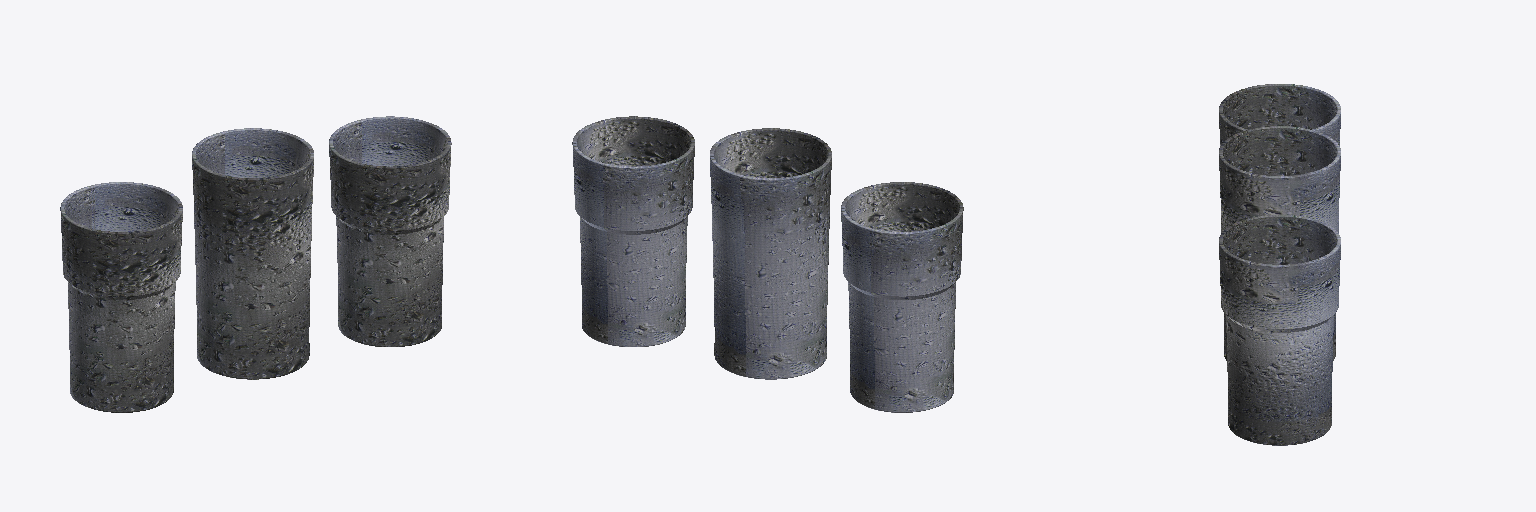
3 views of the same model, side by side, from view 1: azimuth 30°, elevation 25°; view 2: azimuth 150°, elevation 25°; view 3: azimuth 270°, elevation 25° (orthographic).
Visible parts, largest first — view 1: GlassObj:pCylinder1, GlassObj:pCylinder3, GlassObj:pCylinder2; view 2: GlassObj:pCylinder1, GlassObj:pCylinder3, GlassObj:pCylinder2; view 3: GlassObj:pCylinder2, GlassObj:pCylinder1, GlassObj:pCylinder3.
Part boxes in pixels (x1,y1,x2,y2): GlassObj:pCylinder1: (192, 128, 313, 379); GlassObj:pCylinder3: (60, 182, 182, 412); GlassObj:pCylinder2: (329, 116, 451, 346); GlassObj:pCylinder1: (710, 128, 831, 379); GlassObj:pCylinder3: (841, 182, 963, 412); GlassObj:pCylinder2: (572, 116, 694, 346); GlassObj:pCylinder2: (1219, 215, 1340, 445); GlassObj:pCylinder1: (1219, 126, 1340, 360); GlassObj:pCylinder3: (1219, 84, 1340, 145).
Size of the model in its own units: 10.27 by 5.39 by 2.91.
Materials: 1 (1 with a texture image).